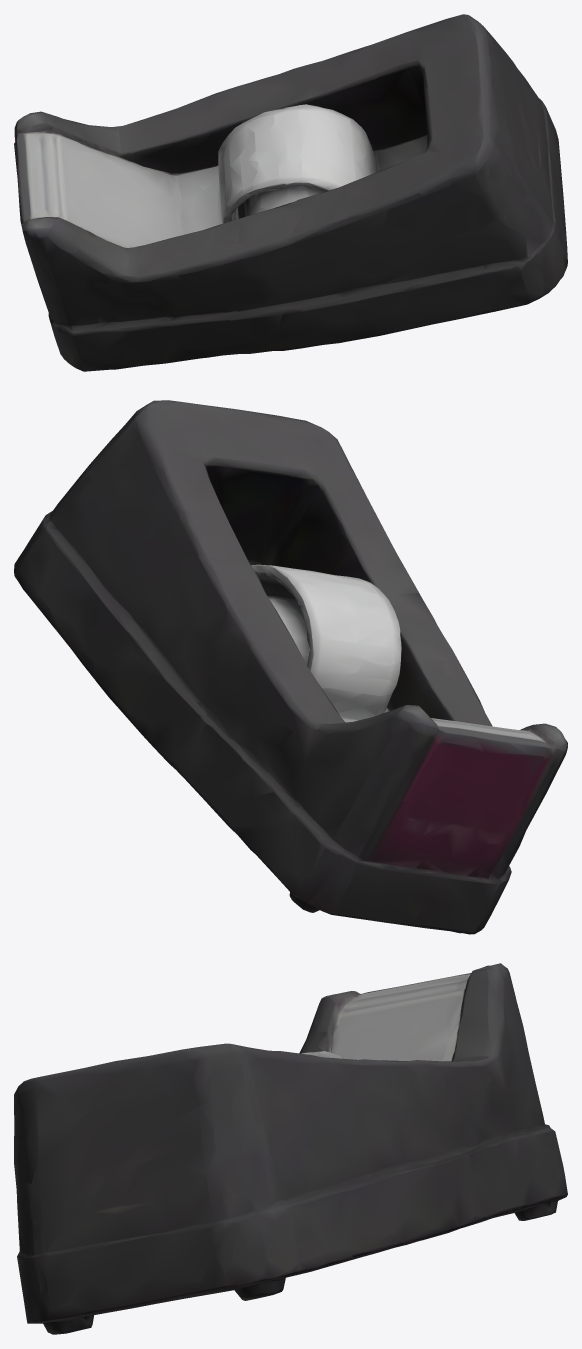
The model's file is 0003_mask_004_tape_dispenser.glb.
3 renders of one model, top to bottom at view 1: azimuth 30°, elevation 25°; view 2: azimuth 150°, elevation 25°; view 3: azimuth 270°, elevation 25°, orthographic. The views are drawn at different scales.
Visible parts, largest first — view 1: mask_004_object; view 2: mask_004_object; view 3: mask_004_object.
Part boxes in pixels (x1=…): mask_004_object: x1=14, y1=14, x2=567, y2=371; mask_004_object: x1=14, y1=400, x2=567, y2=934; mask_004_object: x1=14, y1=963, x2=567, y2=1334.
Size of the model in its own units: 0.2276 by 0.141 by 0.1769.
